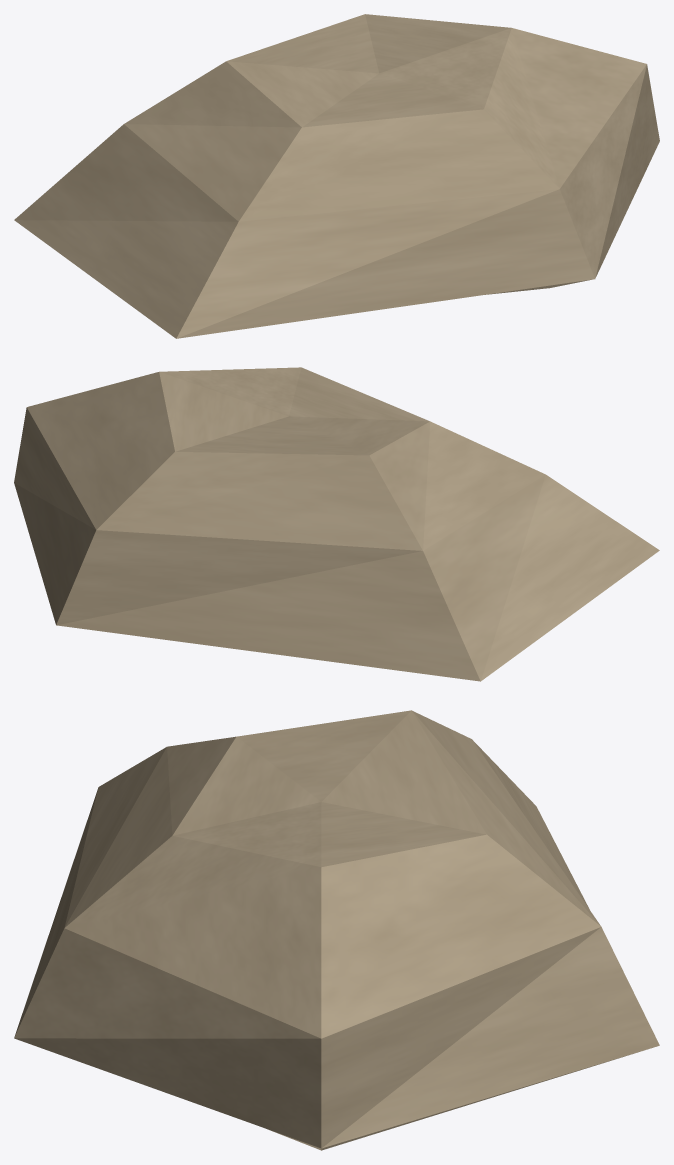
The model's file is SM_CN_Caliche_A_LOD2.glb.
3 renders of one model, top to bottom at view 1: azimuth 30°, elevation 25°; view 2: azimuth 150°, elevation 25°; view 3: azimuth 270°, elevation 25°, orthographic. The views are drawn at different scales.
Visible parts, largest first — view 1: SM_CN_Caliche_A_LOD2; view 2: SM_CN_Caliche_A_LOD2; view 3: SM_CN_Caliche_A_LOD2.
Part boxes in pixels (<box>): SM_CN_Caliche_A_LOD2: <box>14,14,659,338</box>; SM_CN_Caliche_A_LOD2: <box>14,367,659,681</box>; SM_CN_Caliche_A_LOD2: <box>14,710,659,1150</box>.
Bounding box in the file's own units: 0.64 × 0.19 × 0.4937.
Materials: 1 (1 with a texture image).
